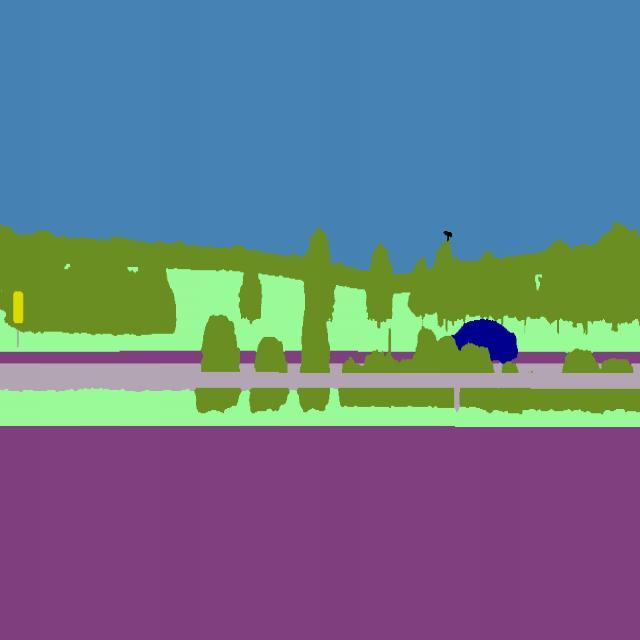safe: (434, 316, 519, 370)
